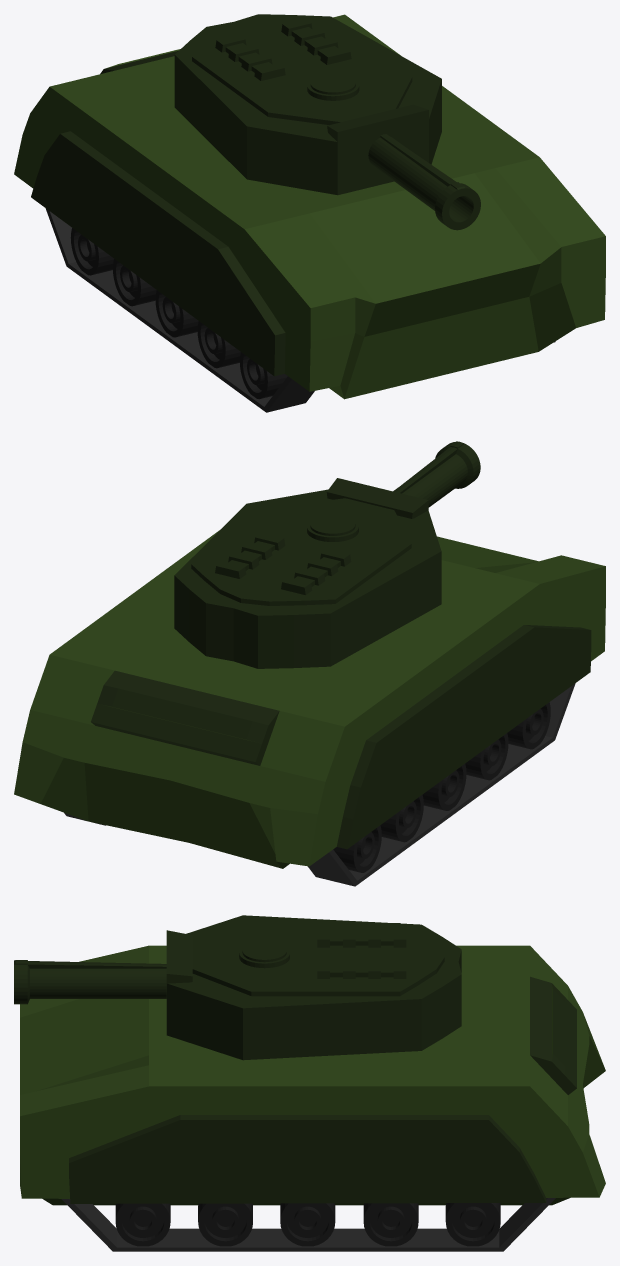
File: tier1.obj
3 renders of one model, top to bottom at view 1: azimuth 30°, elevation 25°; view 2: azimuth 150°, elevation 25°; view 3: azimuth 270°, elevation 25°, orthographic. The views are drawn at different scales.
Visible parts, largest first — view 1: Body4_Cube.070, Turret4_Cylinder.001, Main_Gun4_Cylinder.002, Road_Wheels4_Cube.071, Tracks4_Cube.069; view 2: Body4_Cube.070, Turret4_Cylinder.001, Road_Wheels4_Cube.071, Main_Gun4_Cylinder.002, Tracks4_Cube.069; view 3: Body4_Cube.070, Turret4_Cylinder.001, Road_Wheels4_Cube.071, Tracks4_Cube.069, Main_Gun4_Cylinder.002.
Boxes of the visible parts, box(x1,y1,x2,y2) form: Body4_Cube.070: box(14, 14, 605, 399); Turret4_Cylinder.001: box(174, 14, 441, 194); Main_Gun4_Cylinder.002: box(327, 104, 480, 230); Road_Wheels4_Cube.071: box(70, 228, 287, 399); Tracks4_Cube.069: box(45, 208, 555, 412); Body4_Cube.070: box(14, 530, 605, 868); Turret4_Cylinder.001: box(174, 489, 441, 668); Road_Wheels4_Cube.071: box(333, 702, 550, 872); Main_Gun4_Cylinder.002: box(326, 441, 480, 518); Tracks4_Cube.069: box(64, 683, 575, 886); Body4_Cube.070: box(20, 945, 605, 1205); Turret4_Cylinder.001: box(167, 915, 461, 1060); Road_Wheels4_Cube.071: box(115, 1203, 500, 1246); Tracks4_Cube.069: box(61, 1198, 555, 1251); Main_Gun4_Cylinder.002: box(14, 930, 192, 1035).
Size of the model in its own units: 3.86 by 2.77 by 6.39.
